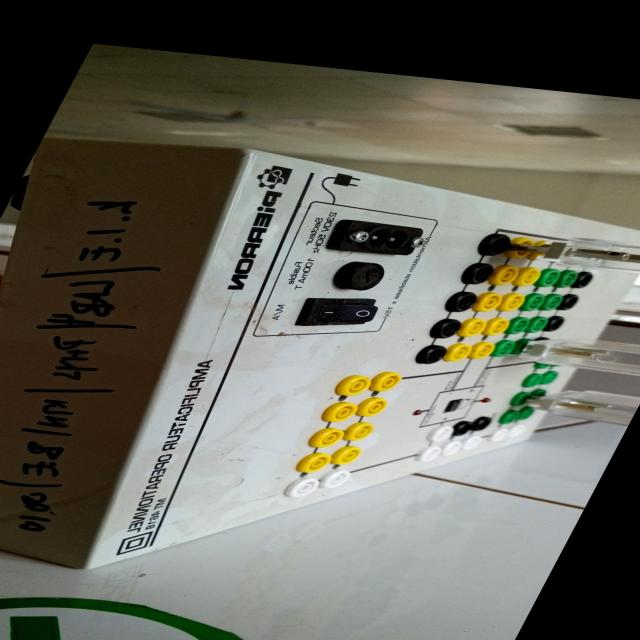Operational Amplifier Board: (0, 112, 640, 616)
